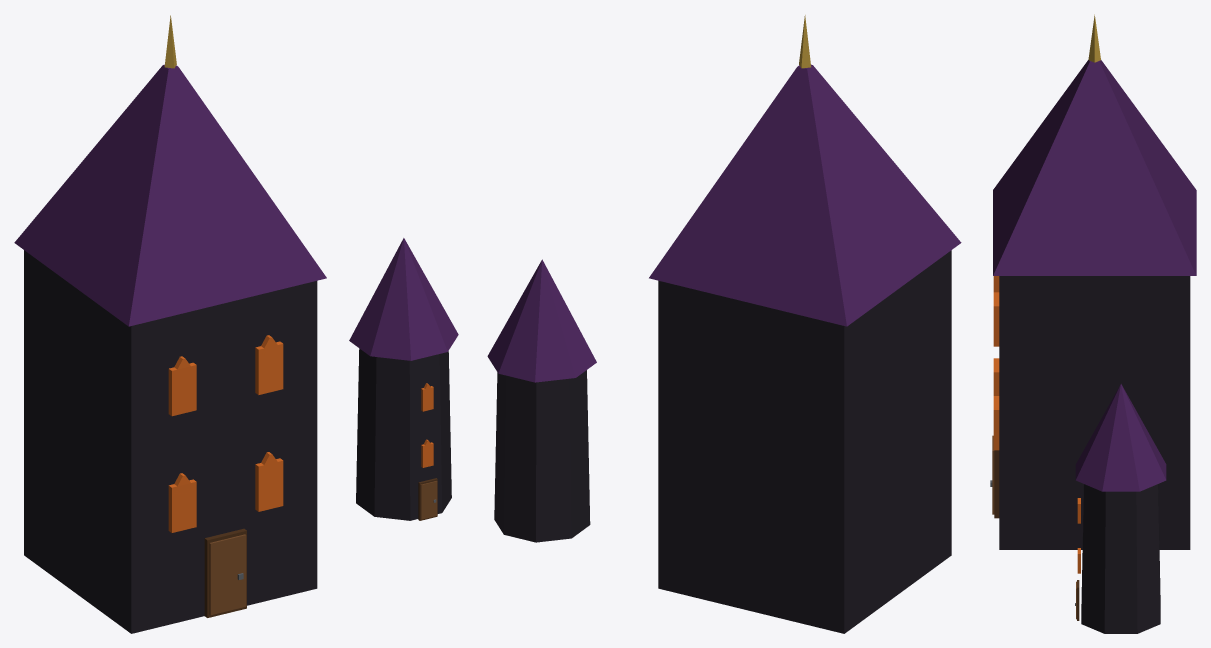
File: demon_hall.glb
3 views of the same model, side by side, from view 1: azimuth 30°, elevation 25°; view 2: azimuth 150°, elevation 25°; view 3: azimuth 270°, elevation 25° (orthographic). The views are drawn at different scales.
Visible parts, largest first — view 1: demon_hall; view 2: demon_hall; view 3: demon_hall.
Boxes of the visible parts, box(x1,y1,x2,y2) form: demon_hall: box(14, 15, 458, 633); demon_hall: box(487, 15, 961, 633); demon_hall: box(990, 14, 1196, 633).
Bounding box in the file's own units: 4.58 × 6.24 × 2.35.
